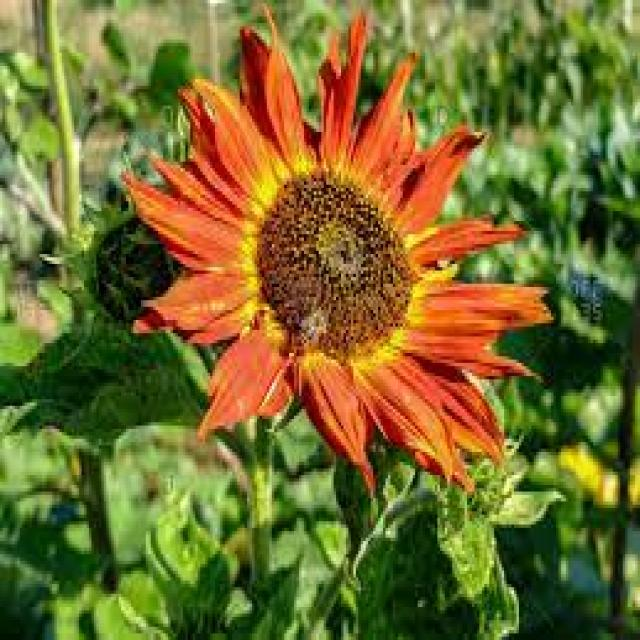sunflower: (116, 0, 557, 518)
